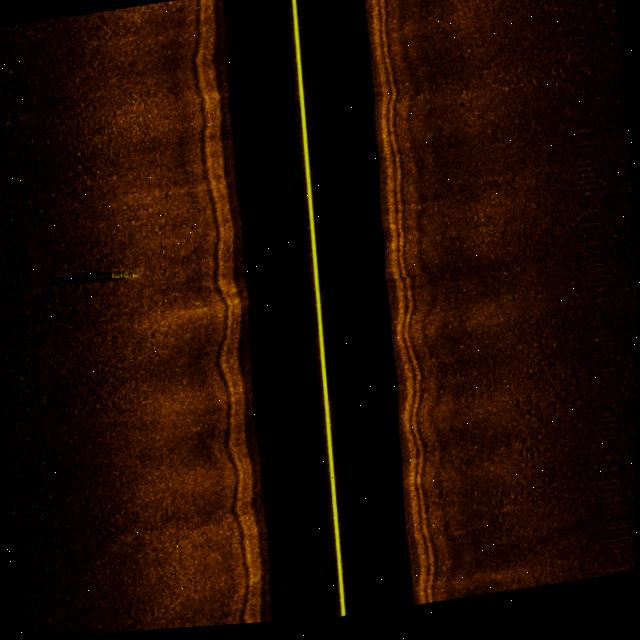other: (49, 264, 145, 293)
